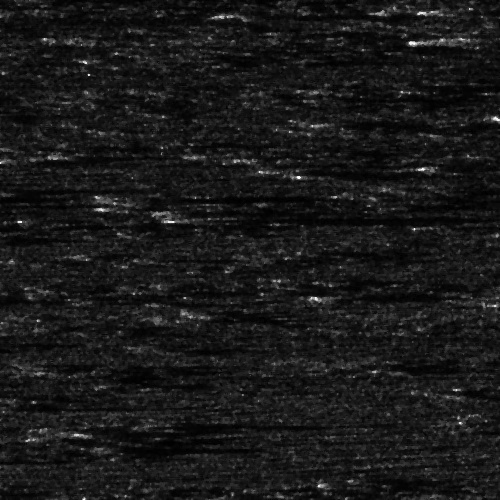rock: (258, 167, 363, 180), (166, 9, 281, 20), (106, 202, 179, 215), (160, 211, 233, 224), (269, 165, 342, 176), (85, 194, 190, 201), (414, 5, 467, 14), (420, 37, 493, 42), (398, 162, 461, 167), (295, 292, 348, 297), (0, 184, 22, 189)
shadow: (143, 202, 446, 215), (197, 211, 500, 224), (311, 167, 471, 180), (224, 9, 386, 20), (306, 165, 465, 176), (138, 194, 338, 201), (0, 184, 129, 189), (441, 5, 500, 14), (322, 292, 424, 297), (0, 190, 98, 195), (430, 162, 500, 167), (0, 206, 67, 211), (0, 194, 32, 201), (457, 37, 500, 42)
